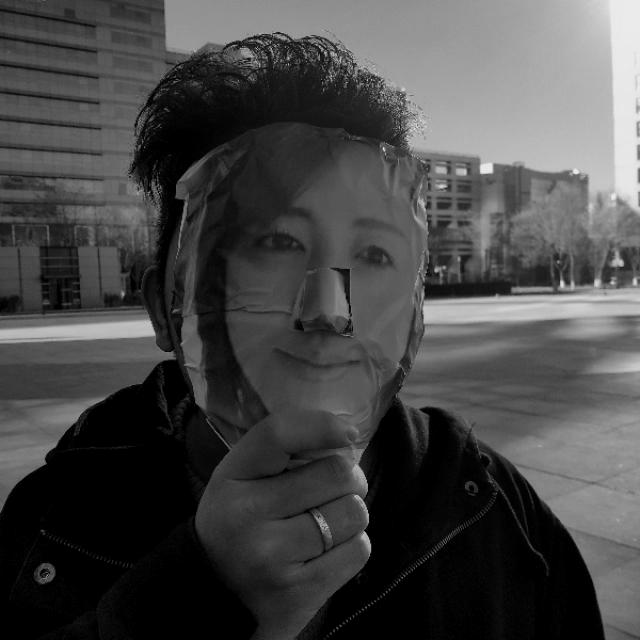fake: (158, 44, 431, 476)
